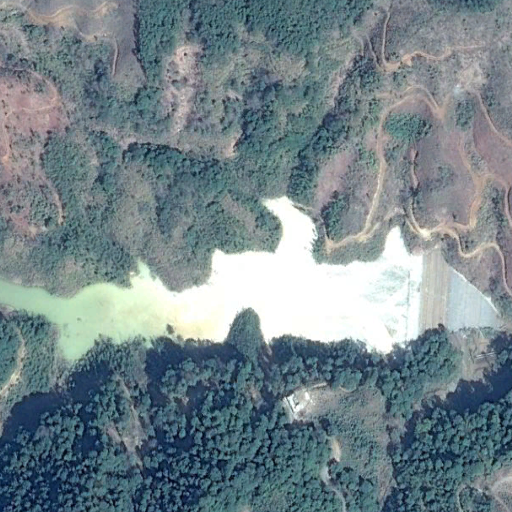tp: (5, 196, 507, 381)
